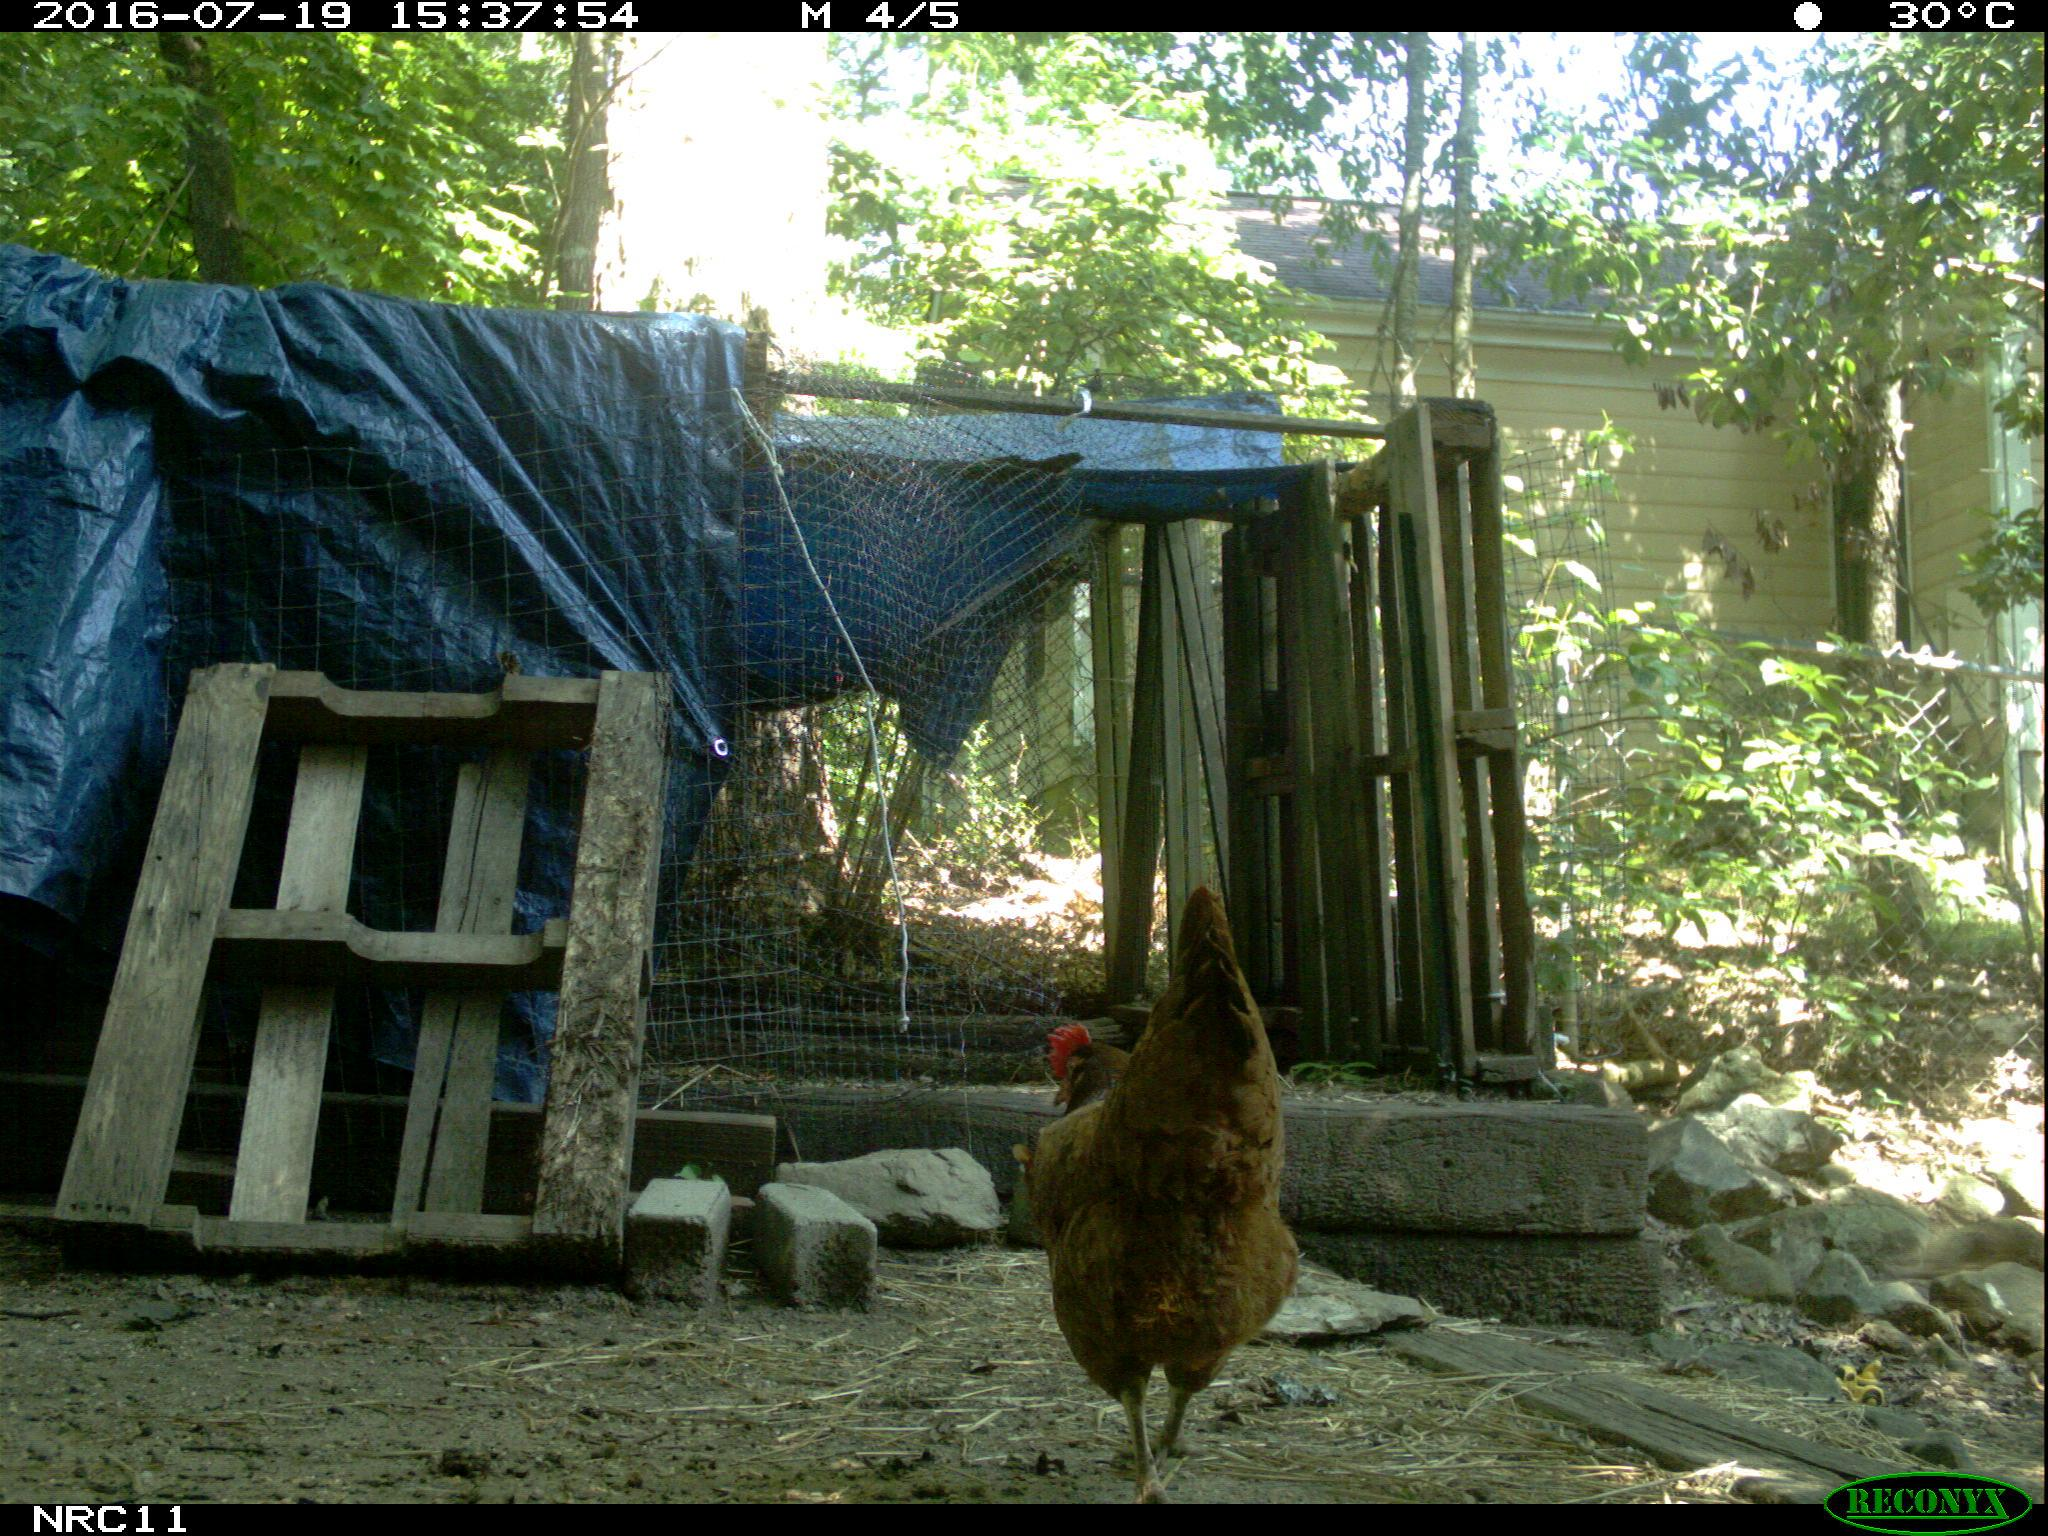Animal: (1027, 887, 1301, 1504)
